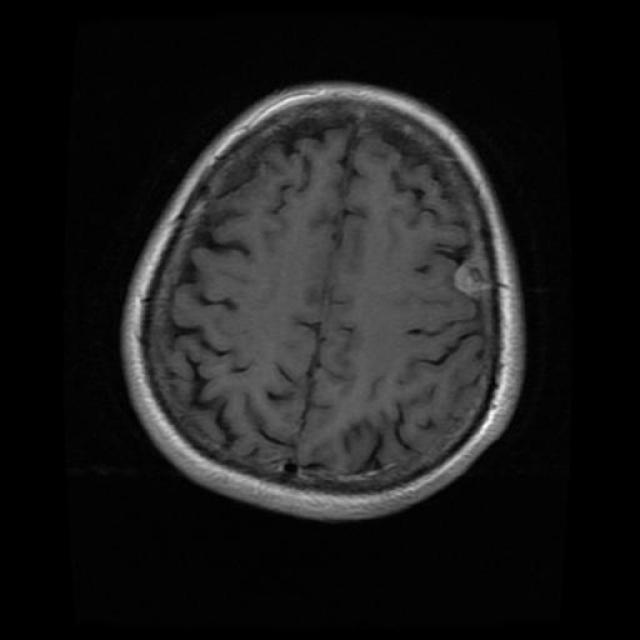Brain-Tumor: (446, 241, 507, 309)
